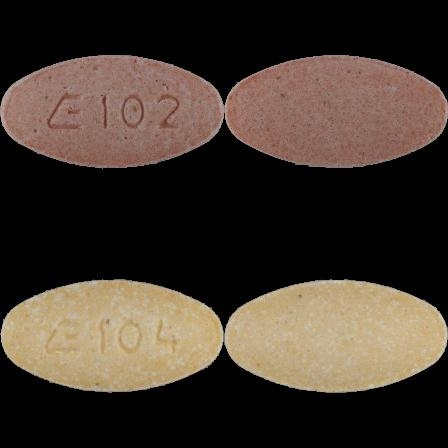76237-312: (0, 0, 224, 224)
